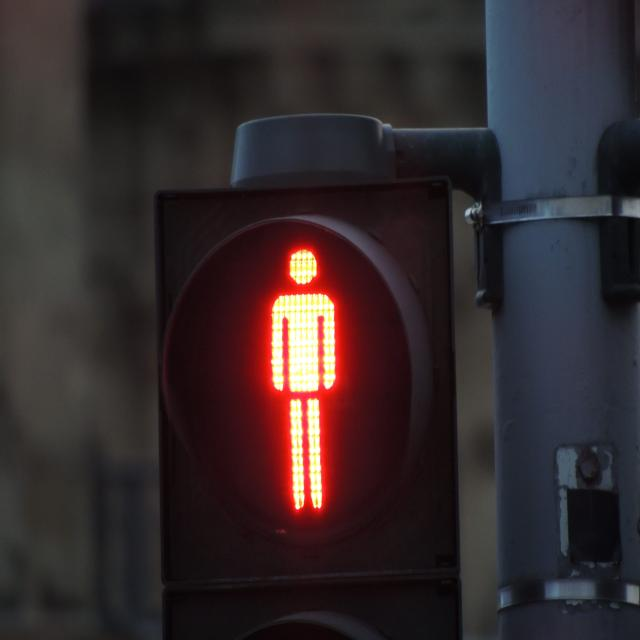red: (226, 210, 410, 504)
